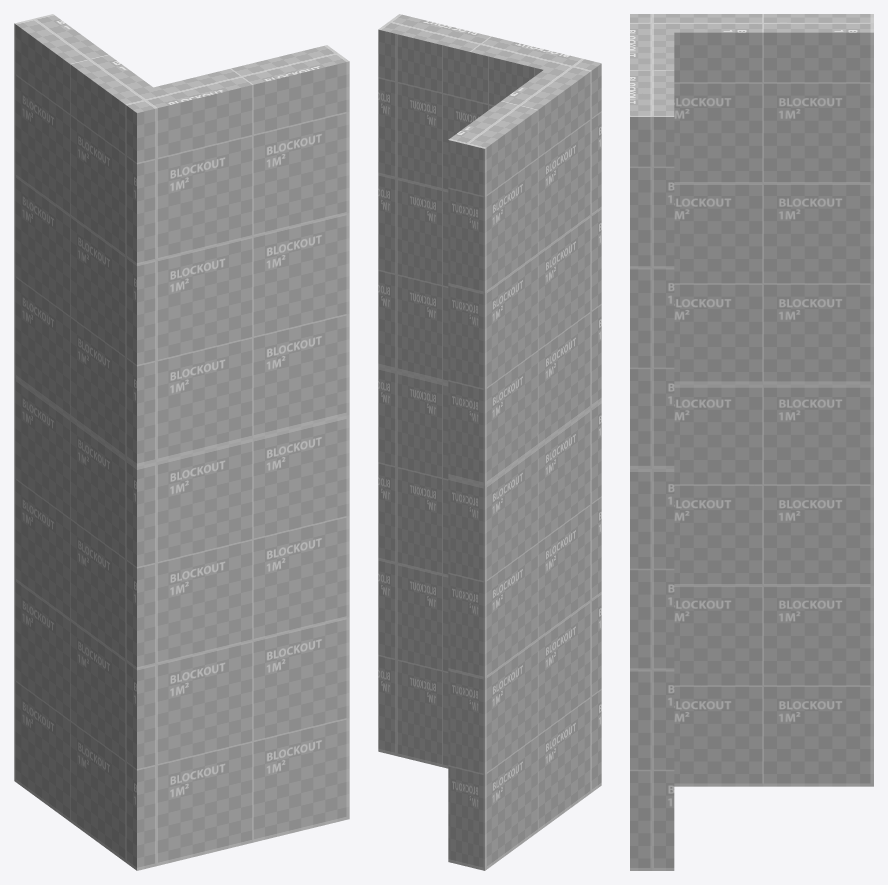
The model's file is BlockoutThinJunctionTwoWay.fbx.
3 views of the same model, side by side, from view 1: azimuth 30°, elevation 25°; view 2: azimuth 150°, elevation 25°; view 3: azimuth 270°, elevation 25° (orthographic). The views are drawn at different scales.
Visible parts, largest first — view 1: BlockoutThinJunctionTwoWay; view 2: BlockoutThinJunctionTwoWay; view 3: BlockoutThinJunctionTwoWay.
Part boxes in pixels (left/top/right/bottom): BlockoutThinJunctionTwoWay: left=14, top=14, right=349, bottom=870; BlockoutThinJunctionTwoWay: left=378, top=14, right=601, bottom=870; BlockoutThinJunctionTwoWay: left=630, top=14, right=873, bottom=870.
Bounding box in the file's own units: 220 × 750 × 220.
